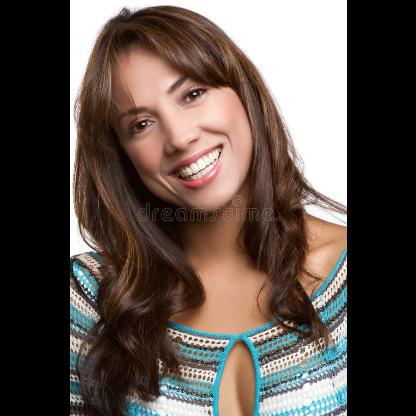Female: (113, 37, 252, 209)
